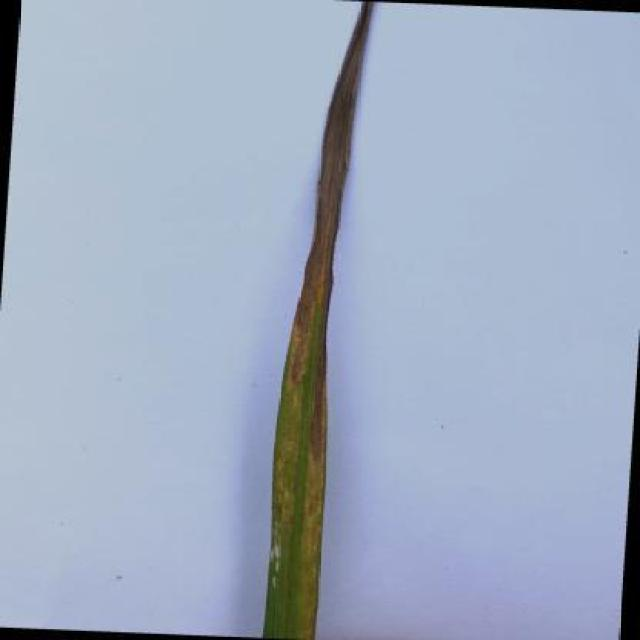Rice False Smut: (263, 2, 374, 640)
